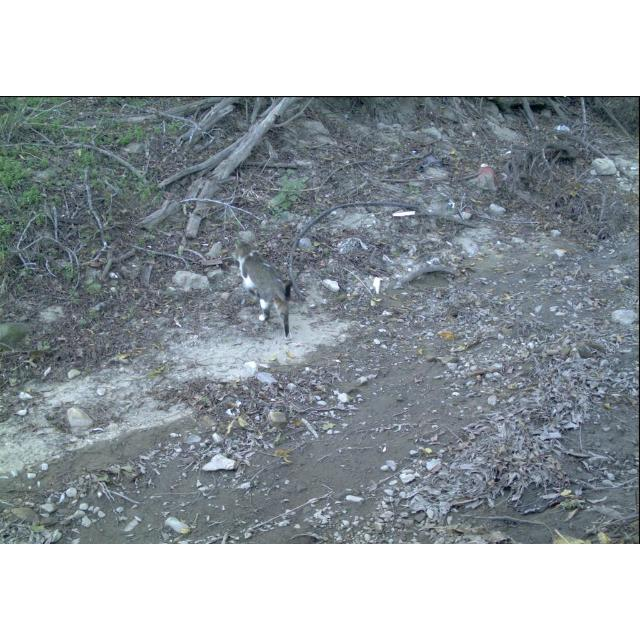animals: (232, 238, 292, 338)
